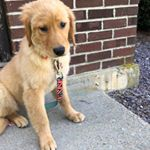puppy: (1, 1, 85, 146)
